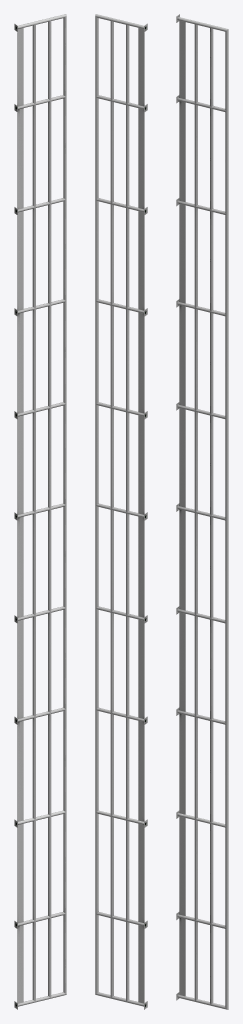
File: props_trainyard_handrail608.glb
3 views of the same model, side by side, from view 1: azimuth 30°, elevation 25°; view 2: azimuth 150°, elevation 25°; view 3: azimuth 330°, elevation 25° (orthographic).
Parts seen in each view (by area): view 1: models/props_trainyard/handrail608; view 2: models/props_trainyard/handrail608; view 3: models/props_trainyard/handrail608.
Part boxes in pixels (left/top/right/bottom): models/props_trainyard/handrail608: left=14, top=14, right=66, bottom=1009; models/props_trainyard/handrail608: left=95, top=14, right=147, bottom=1009; models/props_trainyard/handrail608: left=176, top=14, right=228, bottom=1009.
Bounding box in the file's own units: 33 × 612 × 4.
Materials: 1 (1 with a texture image).
